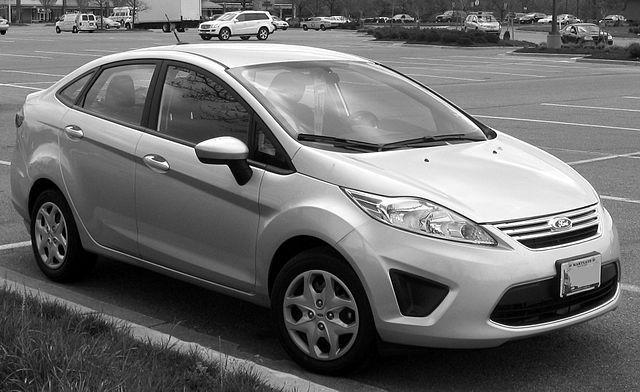car: (9, 16, 621, 367)
